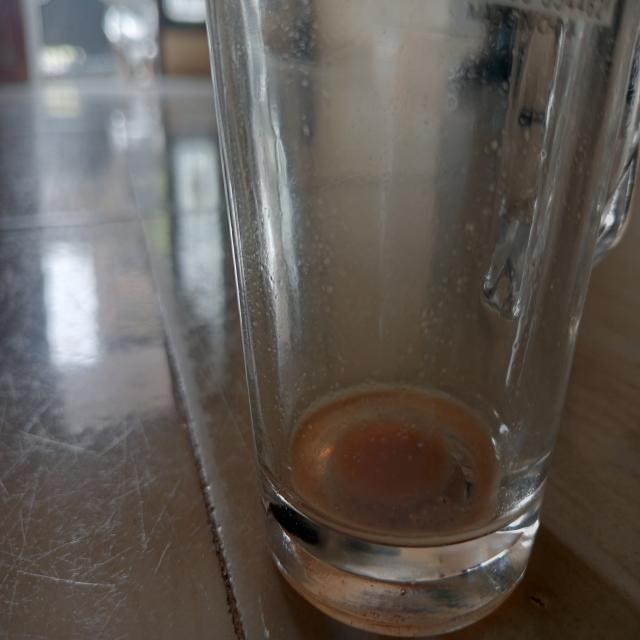glass-VX4N: (201, 3, 640, 639)
